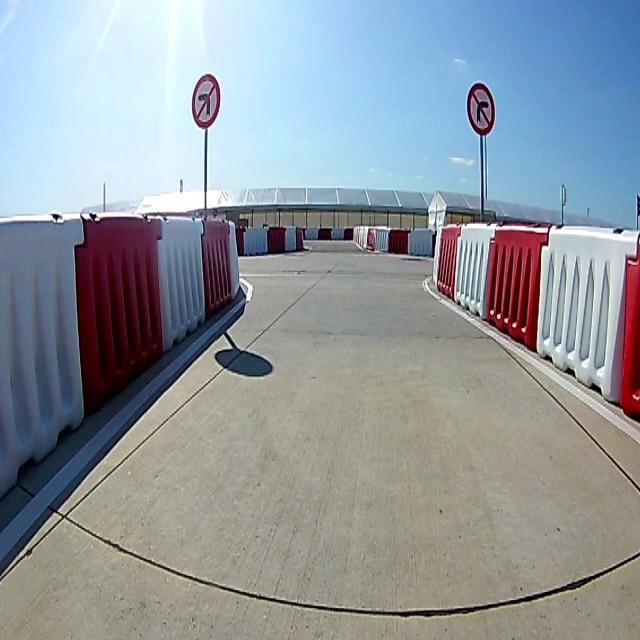sagadonulmez: (466, 86, 496, 134)
soladonulmez: (191, 76, 220, 122)
